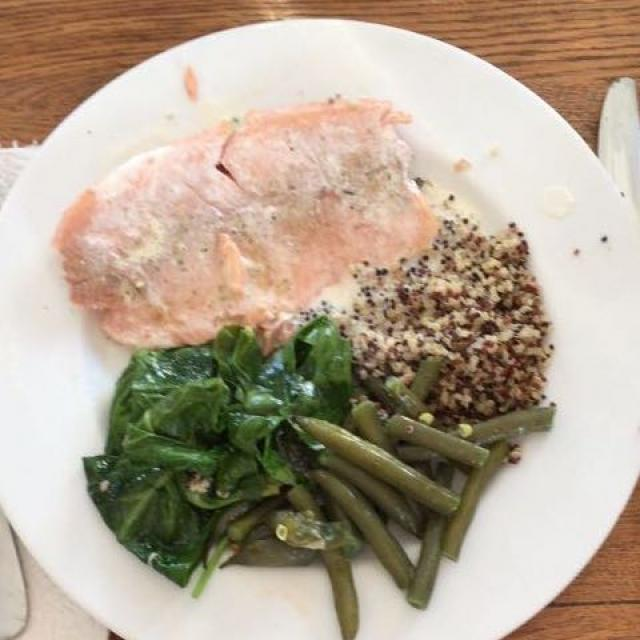beans: (291, 397, 525, 595)
quinoa: (357, 194, 563, 422)
sauce: (64, 144, 440, 339)
